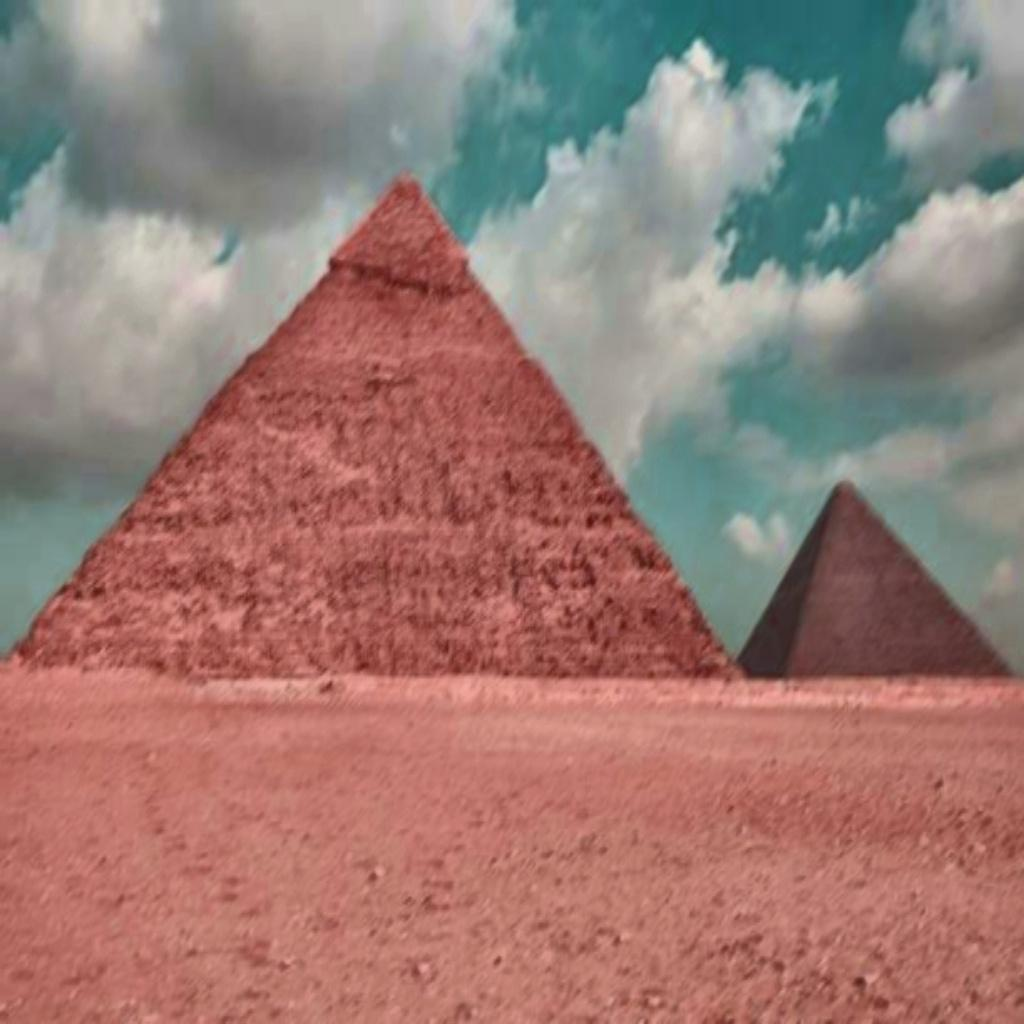Great Pyramids of Giza: (8, 166, 746, 681), (728, 470, 1012, 692)
